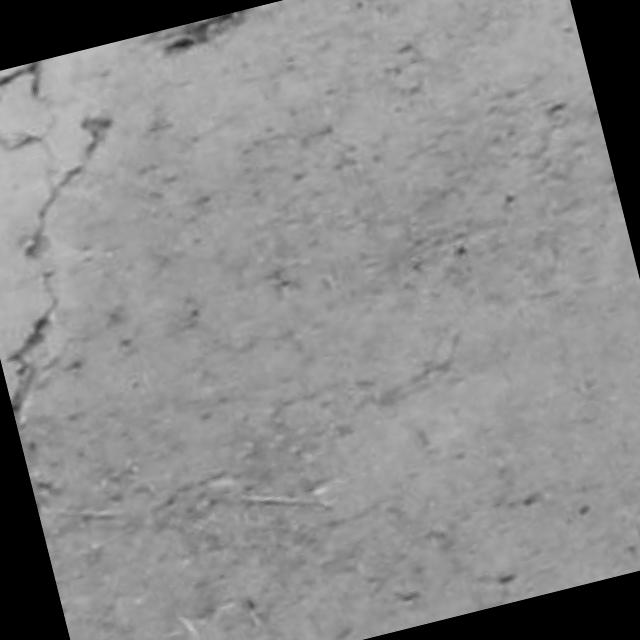crack: (24, 115, 112, 260), (25, 116, 112, 258), (8, 274, 58, 426), (0, 60, 44, 97)
